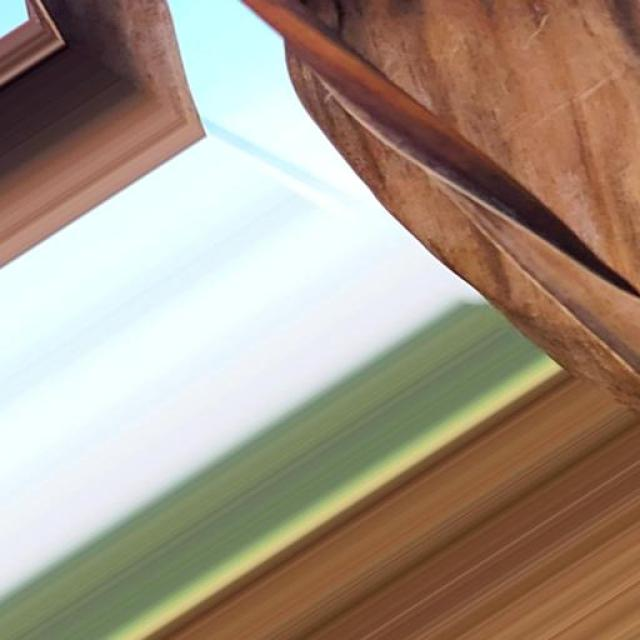Bract_mosaic_virus: (235, 0, 640, 396), (0, 0, 217, 284)
